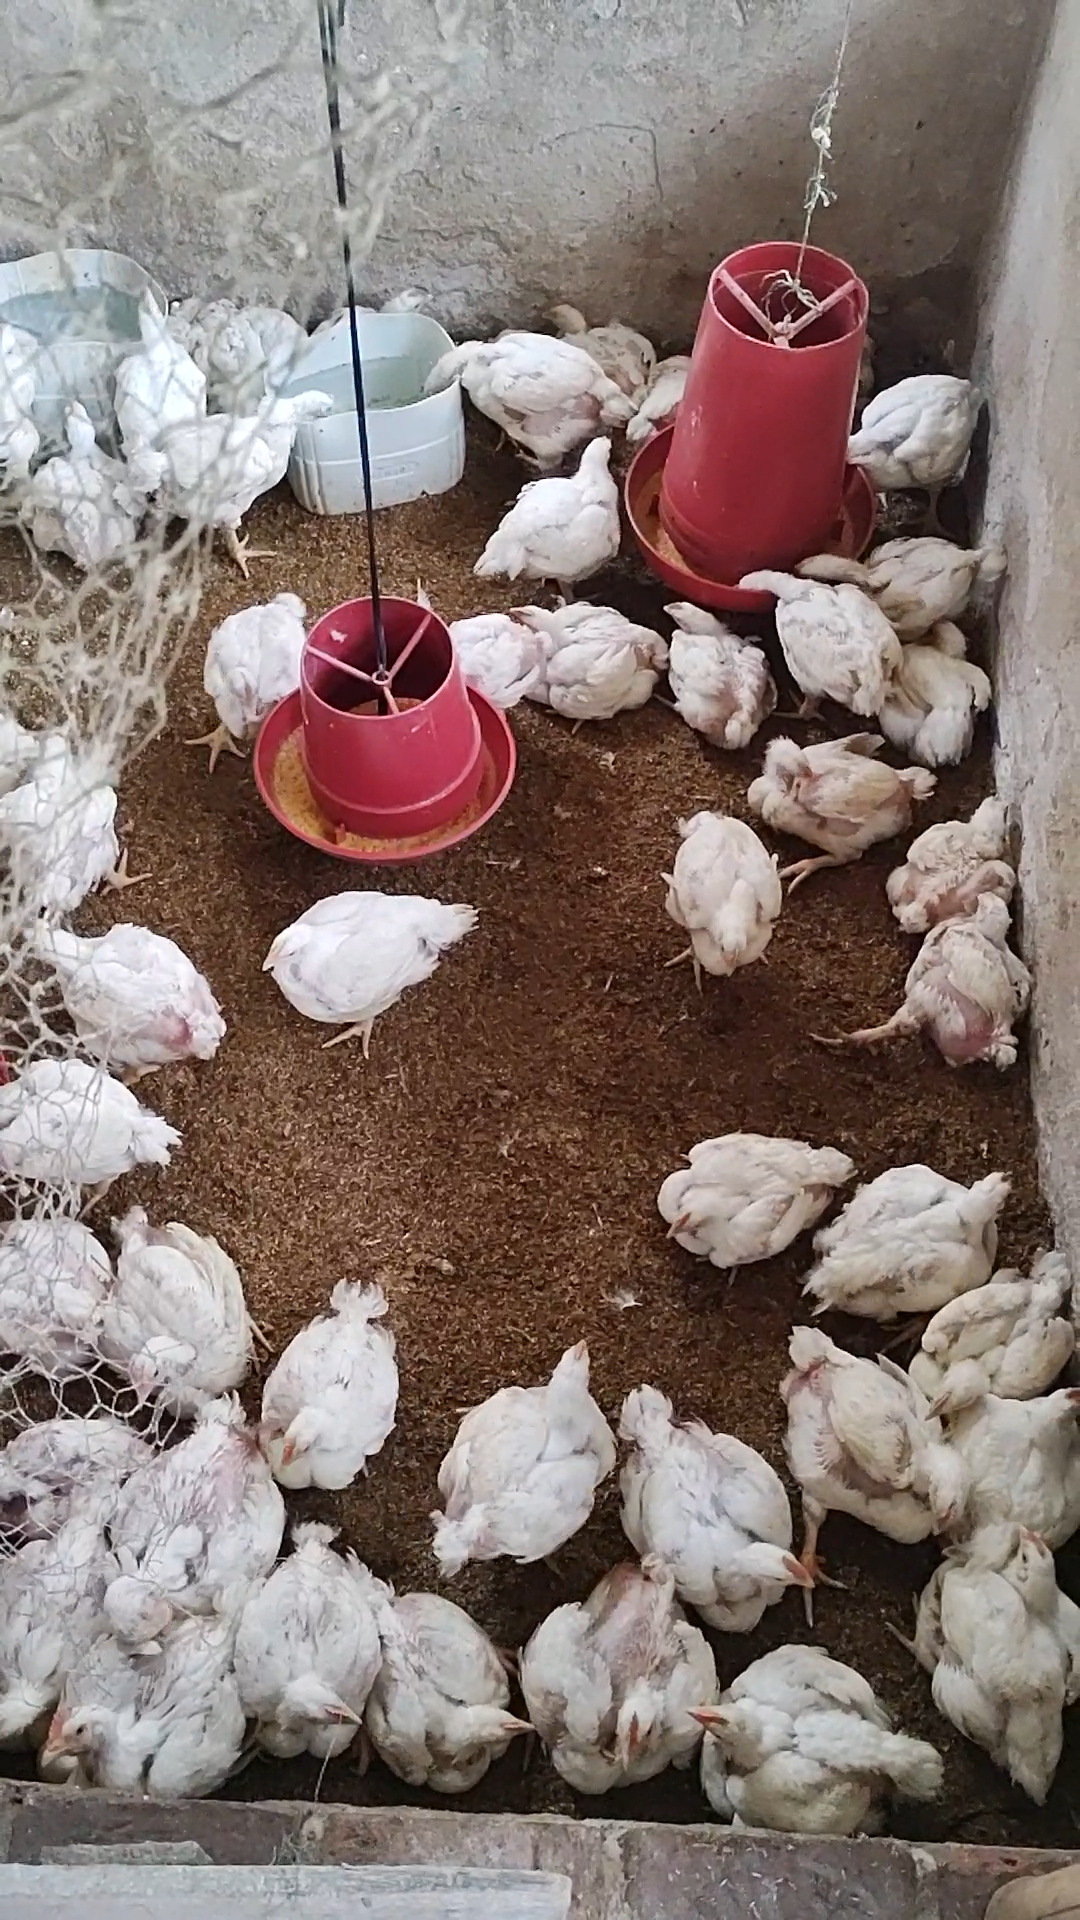Pollos: (255, 872, 479, 1067), (18, 905, 235, 1069), (141, 377, 339, 553), (411, 319, 632, 472), (864, 899, 1033, 1067), (0, 716, 146, 906), (731, 568, 899, 720), (505, 583, 667, 732), (471, 433, 618, 589), (671, 796, 793, 986), (32, 384, 156, 568), (748, 723, 906, 861), (882, 790, 1026, 935), (644, 580, 771, 738), (790, 529, 1005, 622), (868, 604, 984, 771), (193, 588, 309, 752), (839, 368, 989, 493), (406, 580, 531, 713), (116, 328, 211, 468), (545, 290, 653, 409)
